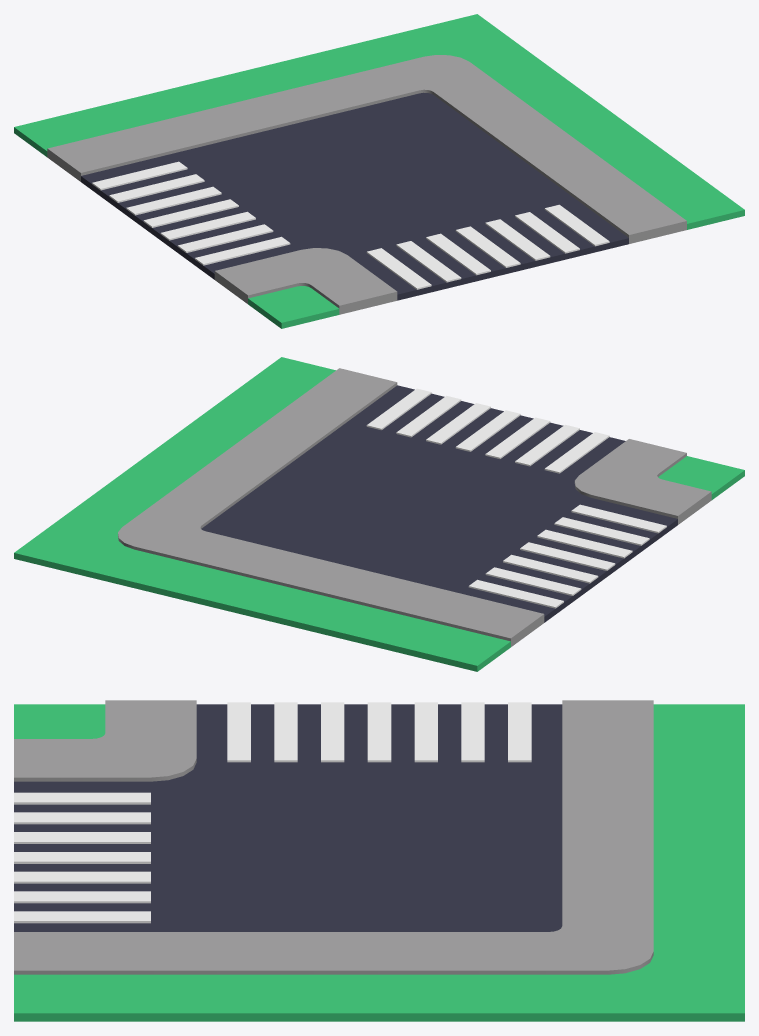
The model's file is CG-City Assets.gltf.
3 views of the same model, one above another, from view 1: azimuth 30°, elevation 25°; view 2: azimuth 150°, elevation 25°; view 3: azimuth 270°, elevation 25° (orthographic). The views are drawn at different scales.
Visible parts, largest first — view 1: Road, Footpaths, Grass, Crosswalk; view 2: Road, Footpaths, Grass, Crosswalk; view 3: Road, Grass, Footpaths, Crosswalk.
Part boxes in pixels (box(x1,y1,x2,y2)): Road: box(81, 92, 628, 300); Footpaths: box(47, 55, 686, 314); Grass: box(14, 14, 744, 328); Crosswalk: box(92, 161, 609, 289); Road: box(201, 385, 677, 622); Footpaths: box(118, 368, 711, 646); Grass: box(14, 357, 744, 671); Crosswalk: box(366, 388, 666, 608); Road: box(14, 704, 562, 931); Grass: box(14, 704, 744, 1021); Footpaths: box(14, 700, 653, 974); Crosswalk: box(14, 702, 531, 923).
Bounding box in the file's own units: 0.16 × 0.003 × 0.16.
